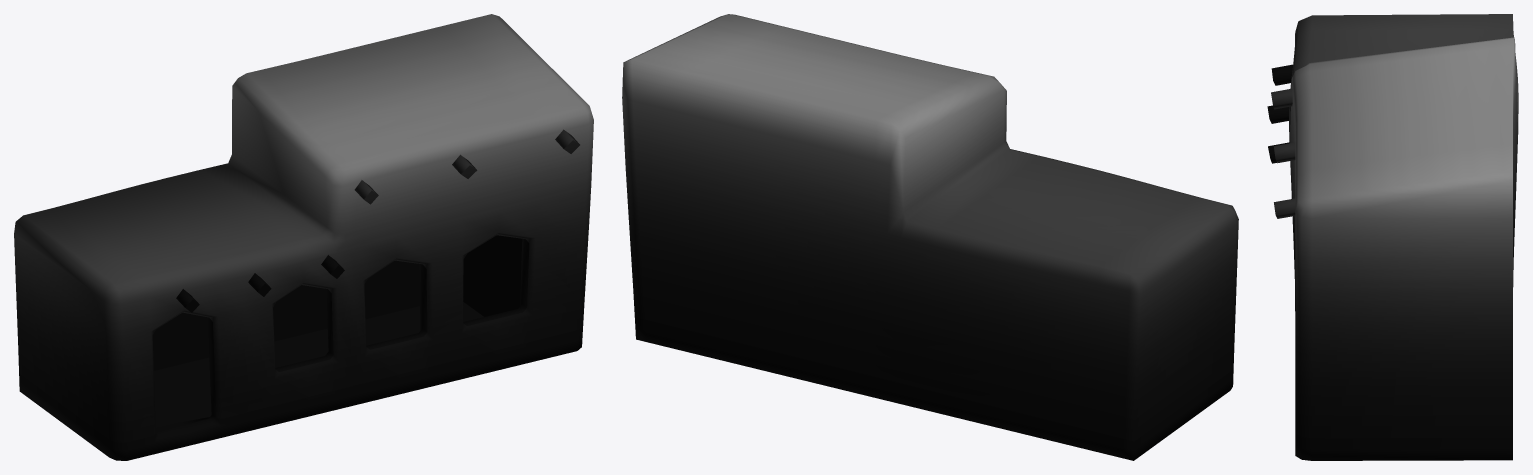
Rendered from Building12.glb.
The picture shows the model from 3 angles, left to right: view 1: azimuth 30°, elevation 25°; view 2: azimuth 150°, elevation 25°; view 3: azimuth 270°, elevation 25°; orthographic projection. The views are drawn at different scales.
Parts seen in each view (by area): view 1: Building12; view 2: Building12; view 3: Building12.
Boxes of the visible parts, bbox=[...] form: Building12: bbox=[14, 14, 593, 460]; Building12: bbox=[622, 14, 1238, 460]; Building12: bbox=[1267, 14, 1518, 460].
Size of what is drawn, in the model's own units: 15.43 by 7.93 by 6.2.
1 material, 1 textured.
